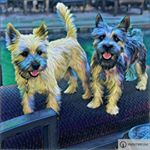puppy: (3, 2, 88, 122), (86, 10, 150, 115)
